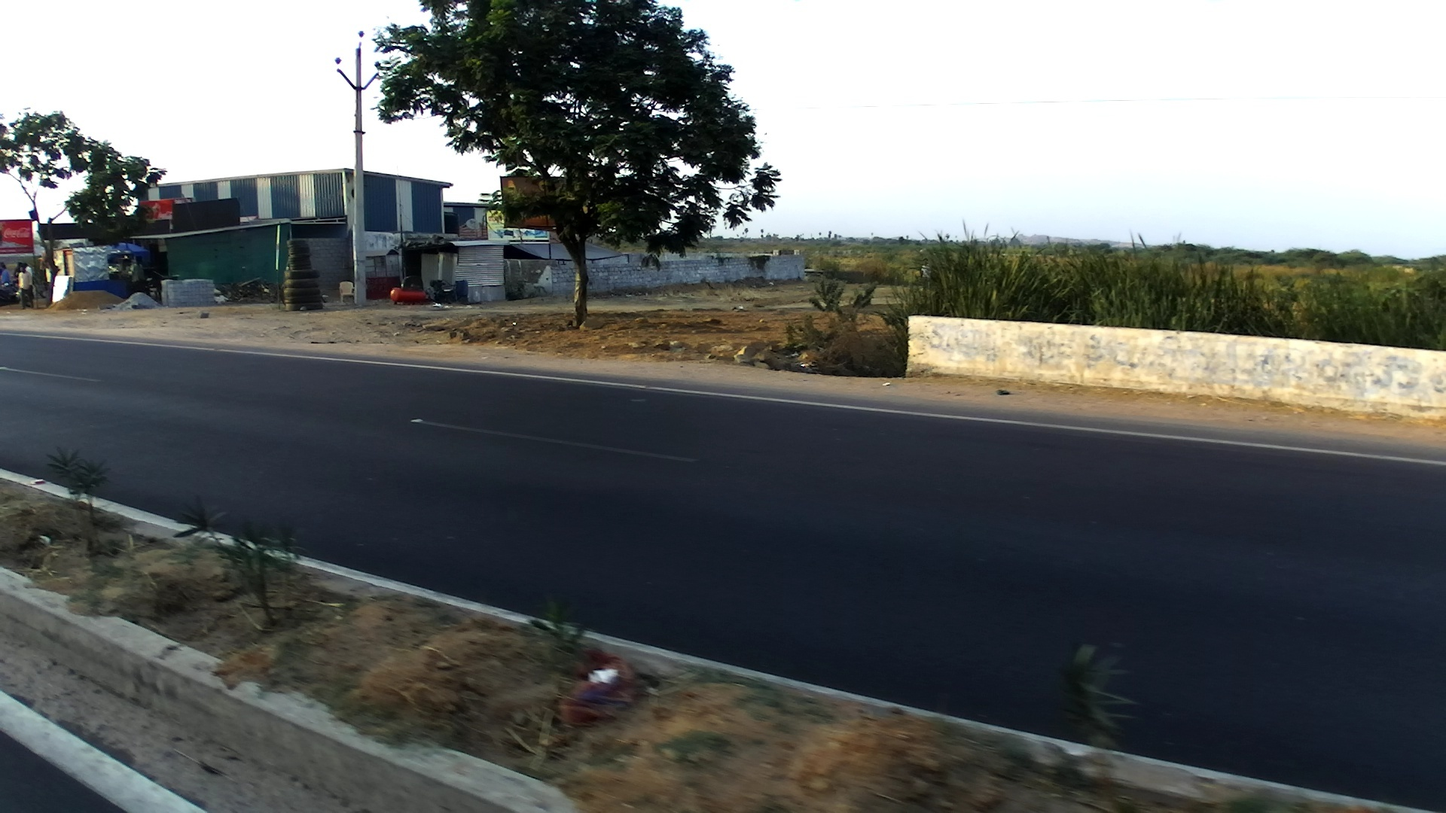motorcycle: (1, 279, 24, 307)
person: (129, 255, 144, 299), (18, 266, 33, 309), (0, 266, 11, 291), (13, 262, 23, 279), (24, 263, 32, 283), (1, 261, 7, 280)
